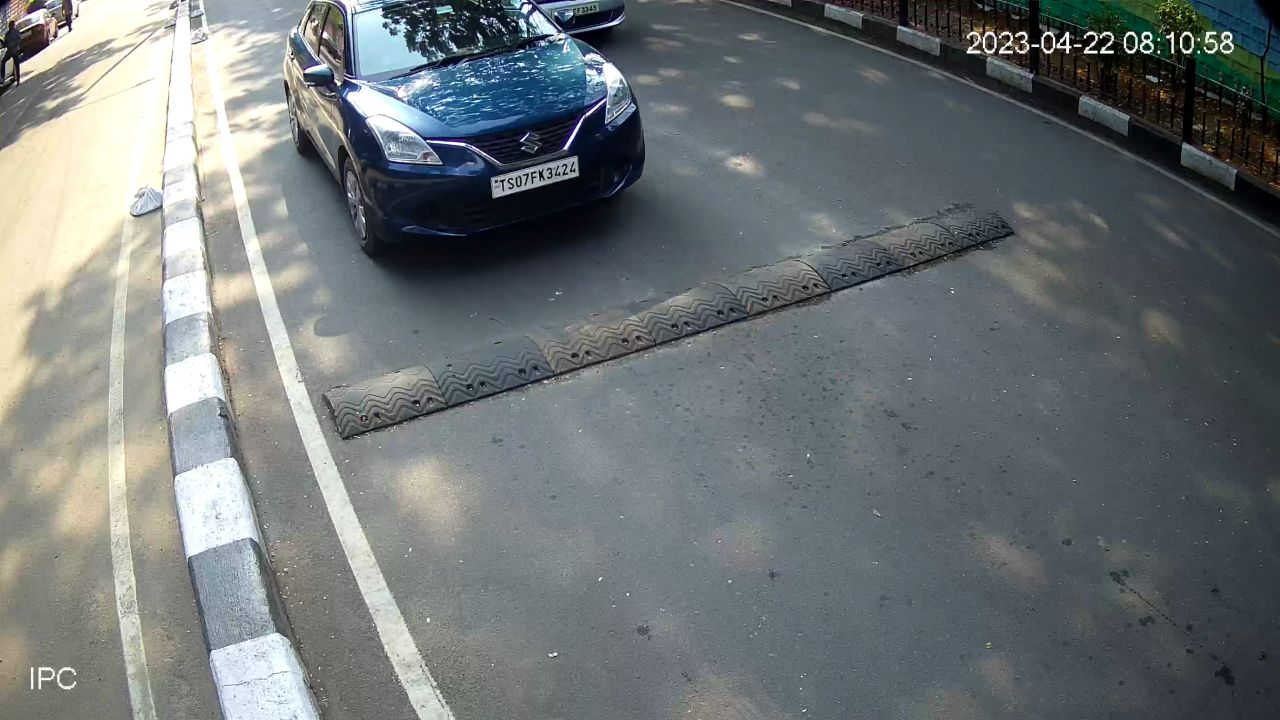license_plate: (486, 149, 583, 202)
